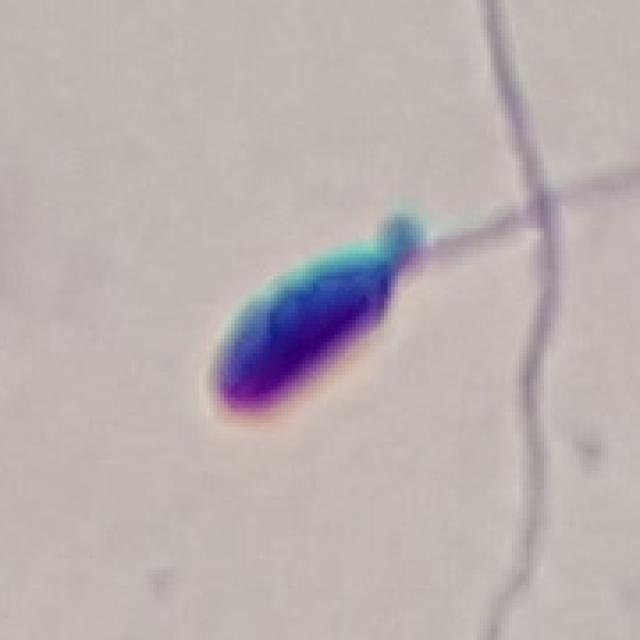abnormal sperm: (205, 202, 549, 425)
